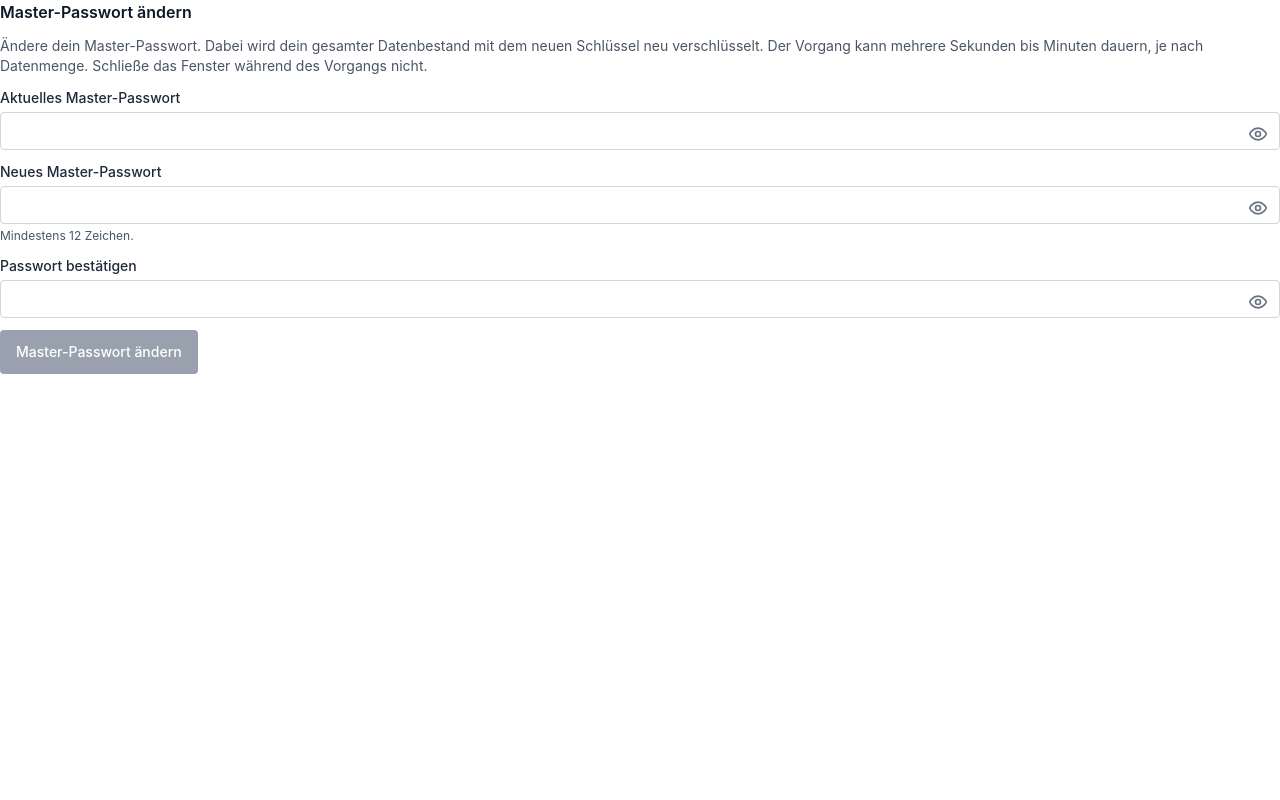
it: ChangePasswordSection › confirm + happy path renders the success banner and clears the form
Type "current-password-12" into the password field labelled "Aktuelles Master-Passwort". click: (640, 131)
box: 0,112 -> 1279,150
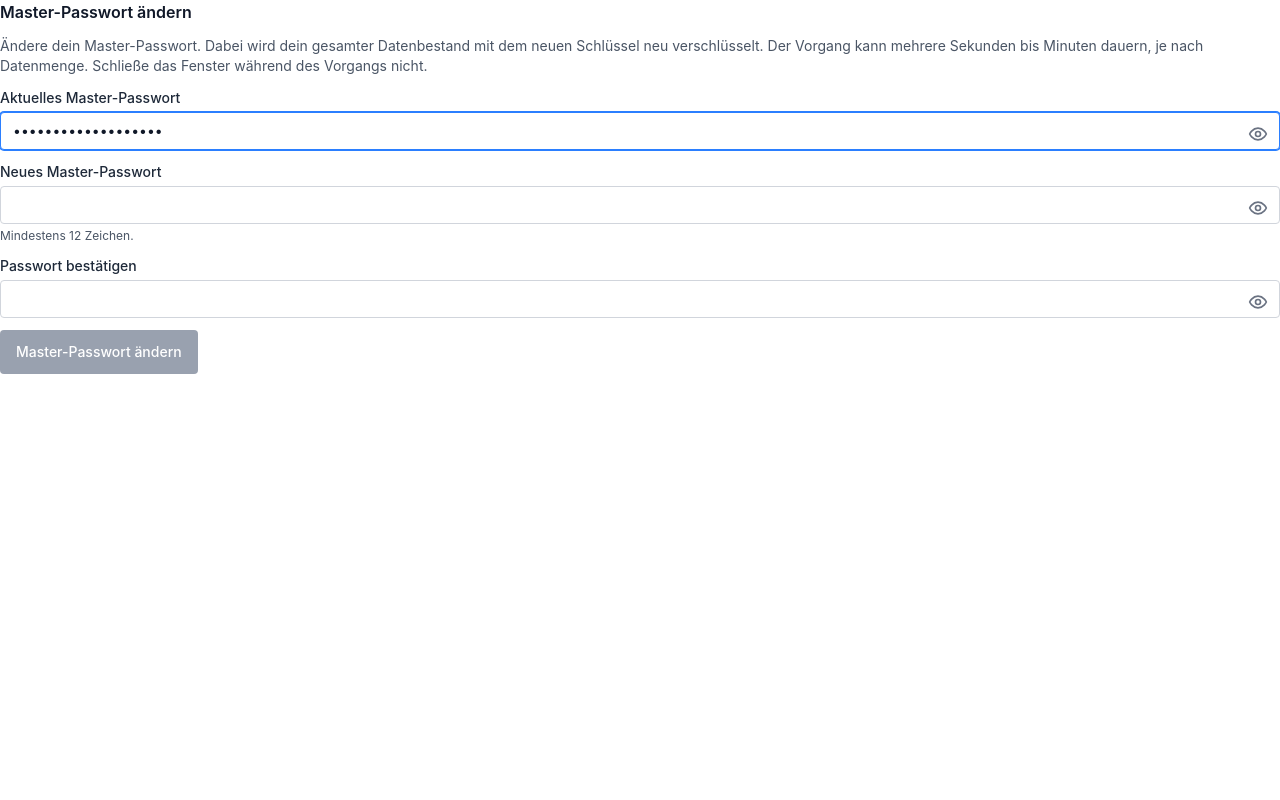
Type "next-password-345" into the password field labelled "Neues Master-Passwort". click: (640, 205)
box: 0,186 -> 1279,224
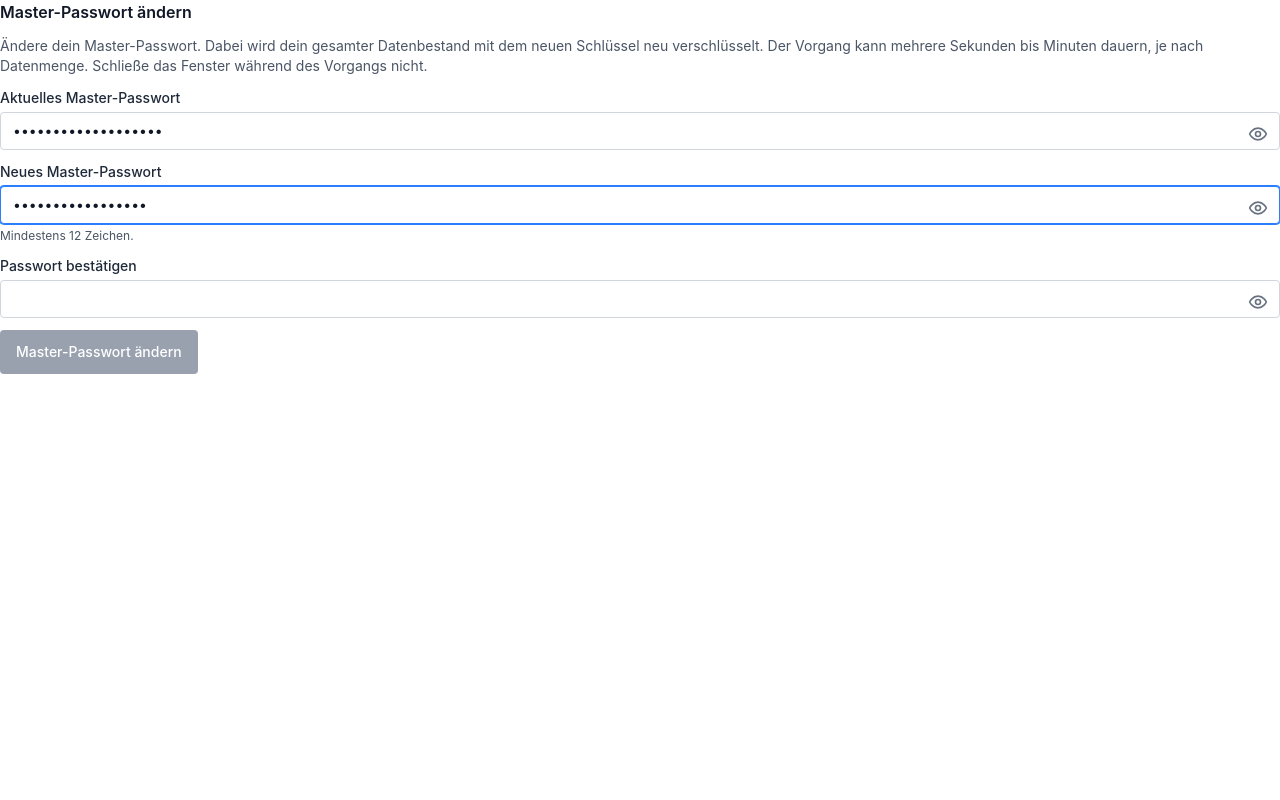
Type "next-password-345" into the password field labelled "Passwort bestätigen". click: (640, 299)
box: 0,280 -> 1279,318
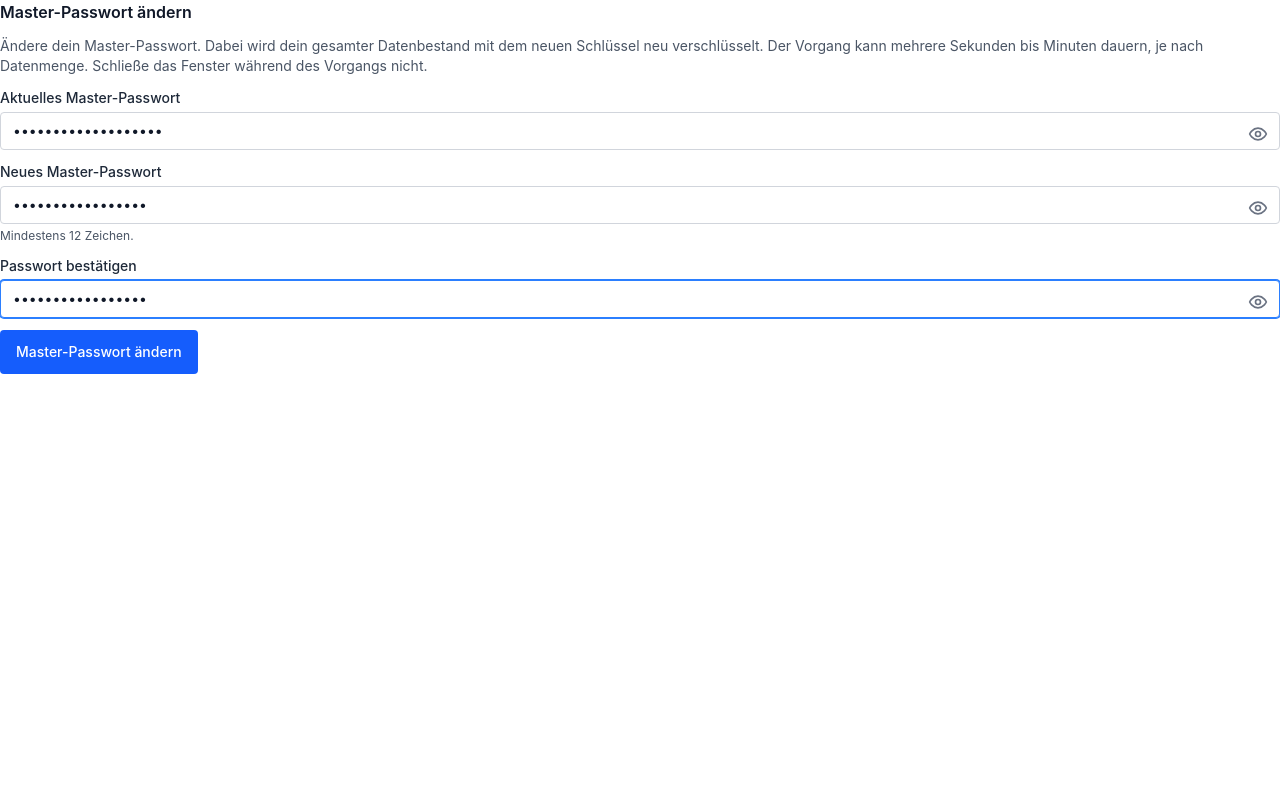
Click the button "Master-Passwort ändern". click: (99, 352)
box: 0,330 -> 198,374
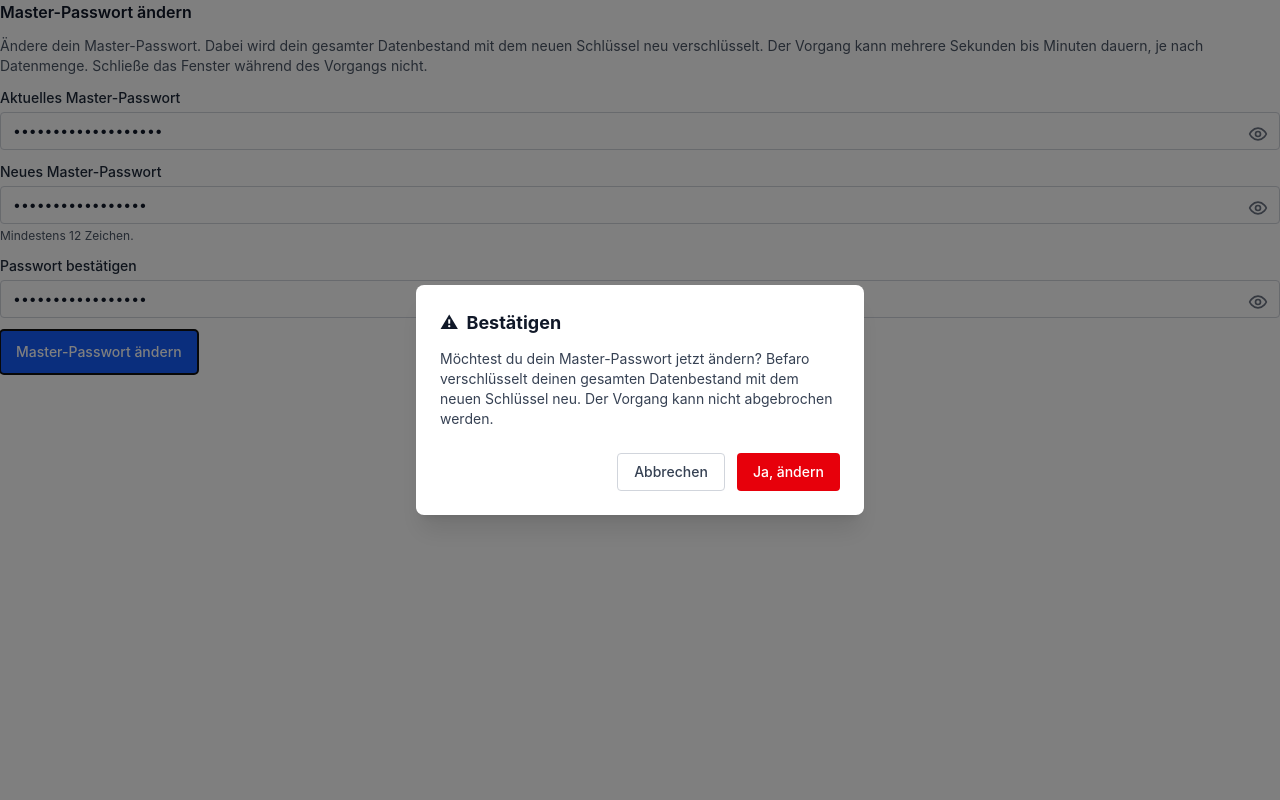
Click the button "Ja, ändern". click: (788, 472)
box: 737,453 -> 840,491
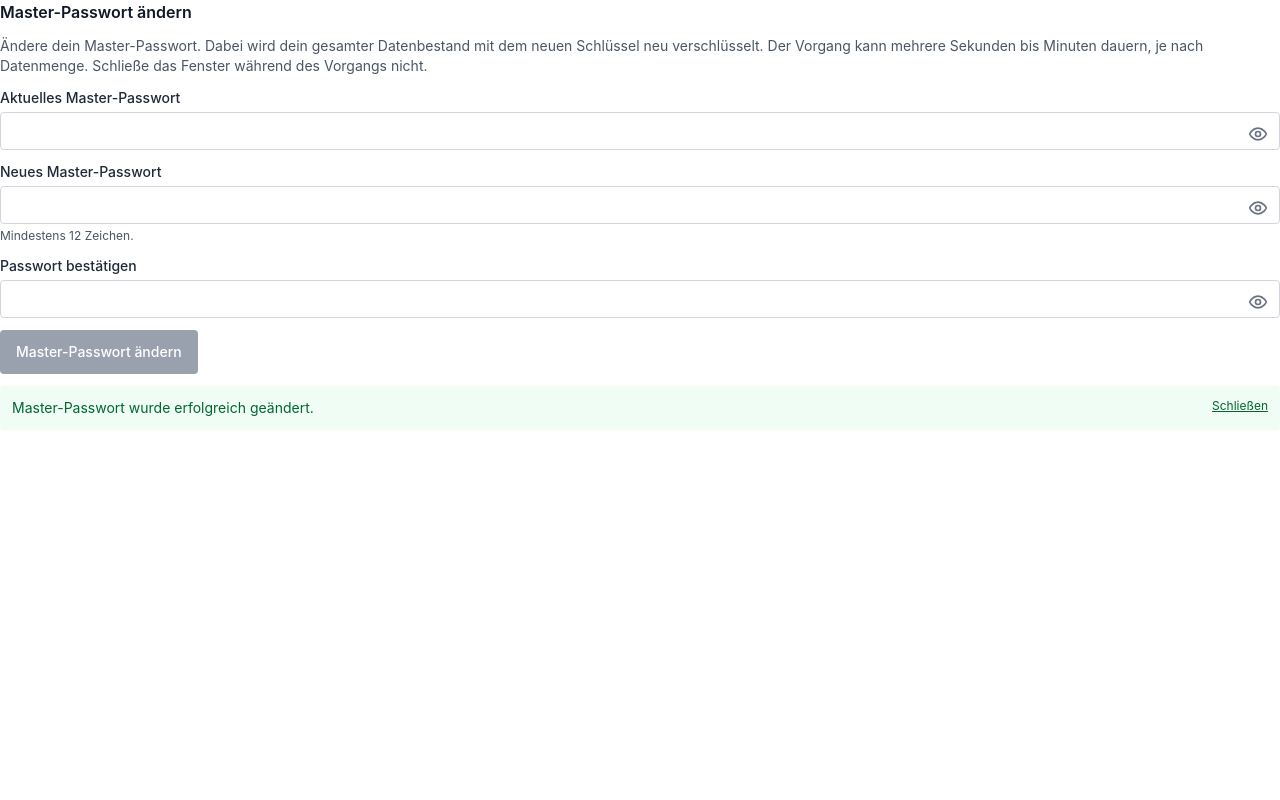
Expected: the text "Master-Passwort wurde erfolgreich geändert." is shown, 12,398 -> 314,418
Expected: the password field labelled "Aktuelles Master-Passwort" is empty, 0,112 -> 1279,150
Expected: the password field labelled "Neues Master-Passwort" is empty, 0,186 -> 1279,224
